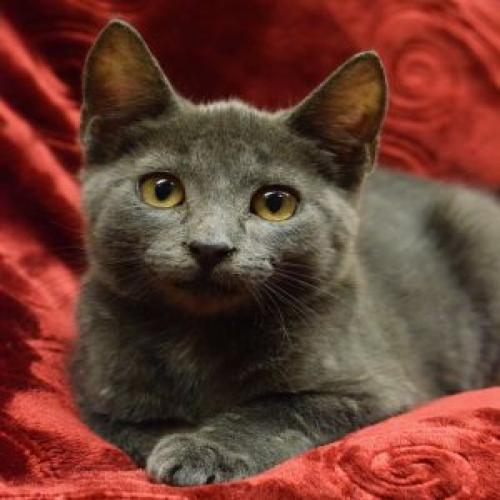rblue: (58, 11, 437, 335)
